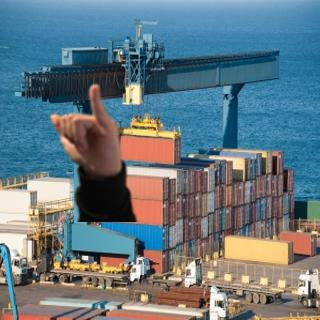HAVE: (39, 80, 121, 175)
